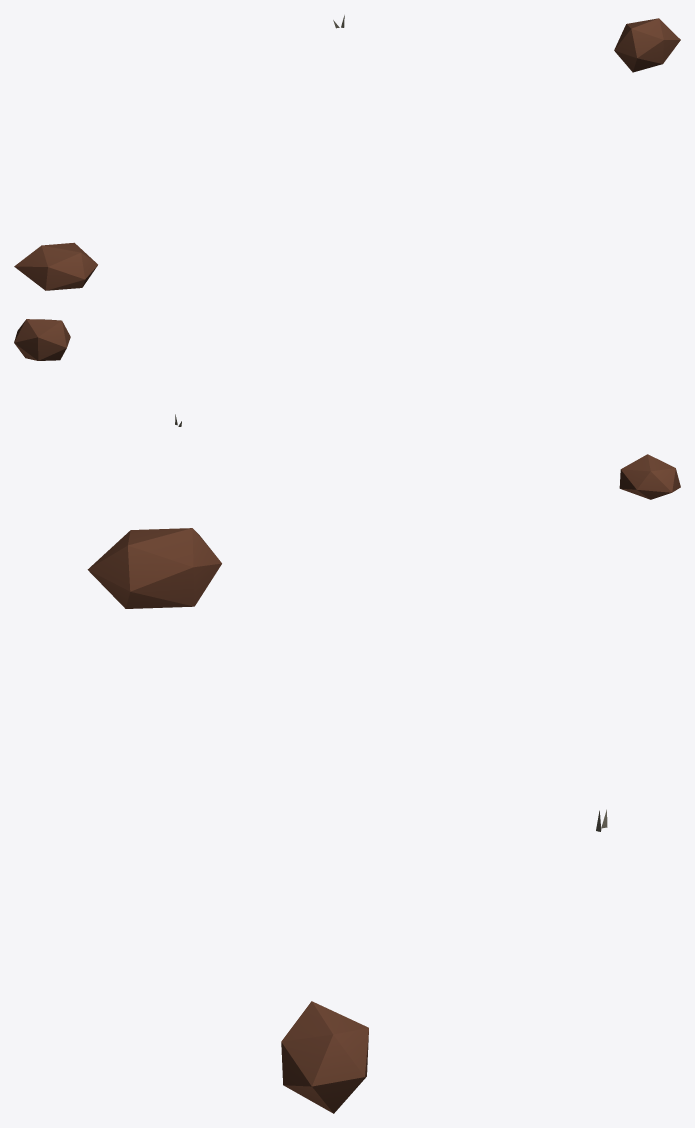
File: ash_land_scatter_c17_29_lod1.glb
3 views of the same model, one above another, from view 1: azimuth 30°, elevation 25°; view 2: azimuth 150°, elevation 25°; view 3: azimuth 270°, elevation 25° (orthographic). The views are drawn at different scales.
Visible parts, largest first — view 1: ash_land_scatter_c17_29_lod1; view 2: ash_land_scatter_c17_29_lod1; view 3: ash_land_scatter_c17_29_lod1.
Boxes of the visible parts, box(x1,y1,x2,y2) form: ash_land_scatter_c17_29_lod1: box(14, 15, 680, 290); ash_land_scatter_c17_29_lod1: box(14, 319, 680, 499); ash_land_scatter_c17_29_lod1: box(87, 528, 607, 1113).
Bounding box in the file's own units: 40.15 × 4.44 × 14.43.
